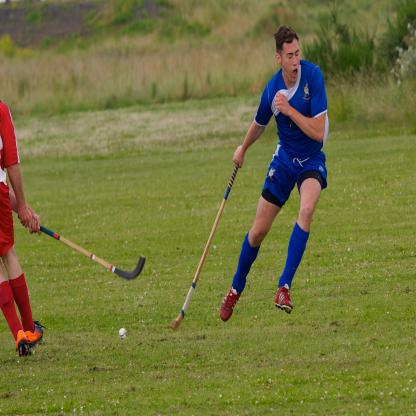Ball: (118, 329, 126, 340)
